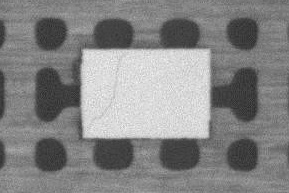DIE_CRACK: (88, 53, 125, 129)
